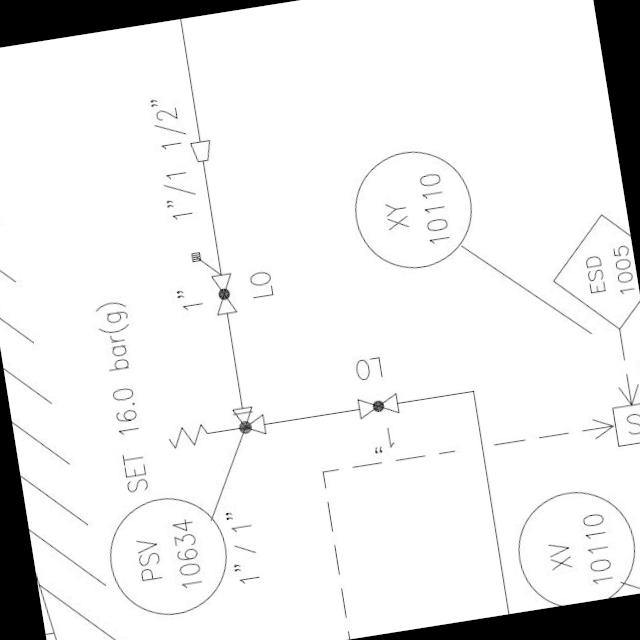BV2: (204, 268, 240, 319)
RPV: (157, 396, 283, 454)
